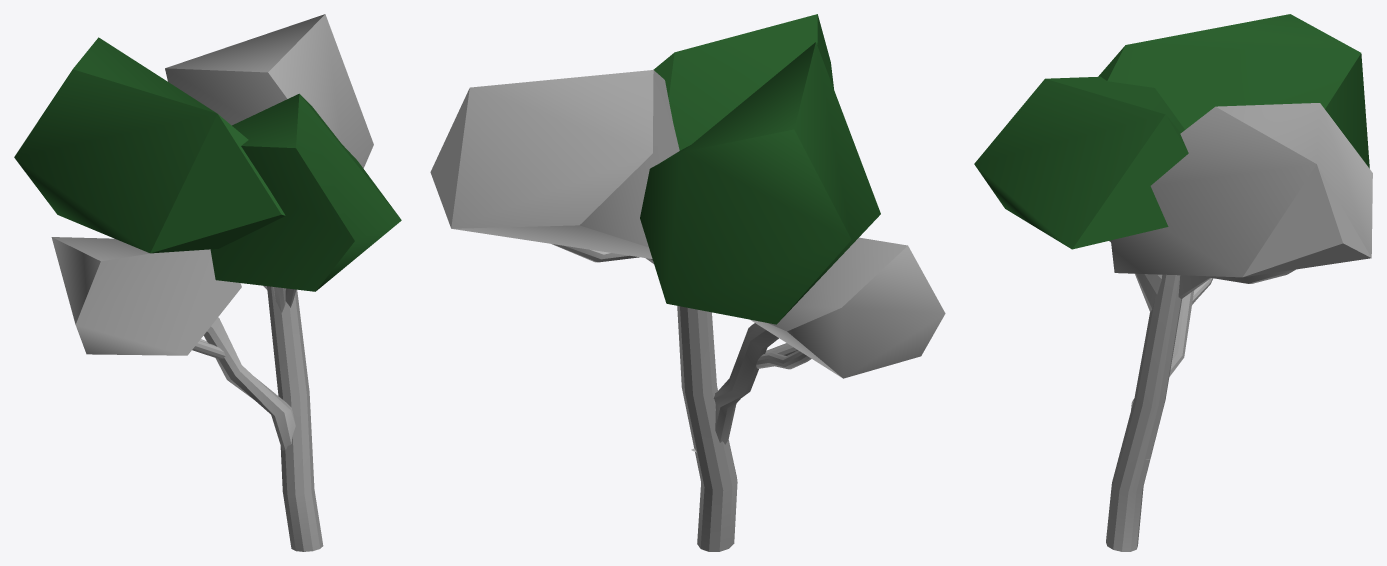
Rendered from COL_ENV_TallTree.fbx.
3 renders of one model, left to right at view 1: azimuth 30°, elevation 25°; view 2: azimuth 150°, elevation 25°; view 3: azimuth 270°, elevation 25°, orthographic. The views are drawn at different scales.
Parts seen in each view (by area): view 1: pasted__Tree_leafs, pasted__Tree_leafs3, pasted__Tree_leafs4, pasted__Tree_Leafs2, pasted__pCylinder1, pasted__pCylinder7; view 2: pasted__Tree_leafs, pasted__Tree_Leafs2, pasted__Tree_leafs4, pasted__Tree_leafs3, pasted__pCylinder1, pasted__pCylinder7, pasted__pCylinder8, pasted__pCylinder4; view 3: pasted__Tree_Leafs2, pasted__Tree_leafs3, pasted__Tree_leafs, pasted__pCylinder1, pasted__pCylinder4, pasted__pCylinder7, pasted__pCylinder2.
Part boxes in pixels (x1=…): pasted__Tree_leafs: x1=14, y1=37, x2=285, y2=253; pasted__Tree_leafs3: x1=210, y1=93, x2=401, y2=291; pasted__Tree_leafs4: x1=51, y1=237, x2=241, y2=355; pasted__Tree_Leafs2: x1=165, y1=14, x2=373, y2=168; pasted__pCylinder1: x1=267, y1=286, x2=323, y2=551; pasted__pCylinder7: x1=203, y1=317, x2=295, y2=450; pasted__Tree_leafs: x1=640, y1=42, x2=880, y2=324; pasted__Tree_Leafs2: x1=430, y1=70, x2=679, y2=258; pasted__Tree_leafs4: x1=750, y1=237, x2=945, y2=378; pasted__Tree_leafs3: x1=653, y1=14, x2=833, y2=150; pasted__pCylinder1: x1=677, y1=306, x2=737, y2=551; pasted__pCylinder7: x1=691, y1=323, x2=778, y2=452; pasted__pCylinder8: x1=756, y1=350, x2=811, y2=369; pasted__pCylinder4: x1=552, y1=244, x2=653, y2=263; pasted__Tree_Leafs2: x1=1111, y1=103, x2=1372, y2=277; pasted__Tree_leafs3: x1=974, y1=76, x2=1188, y2=249; pasted__Tree_leafs: x1=1098, y1=14, x2=1369, y2=168; pasted__pCylinder1: x1=1106, y1=274, x2=1181, y2=551; pasted__pCylinder4: x1=1178, y1=269, x2=1295, y2=298; pasted__pCylinder7: x1=1131, y1=290, x2=1193, y2=459; pasted__pCylinder2: x1=1109, y1=240, x2=1162, y2=312.
Bounding box in the file's own units: 3229 × 4008 × 3158.
